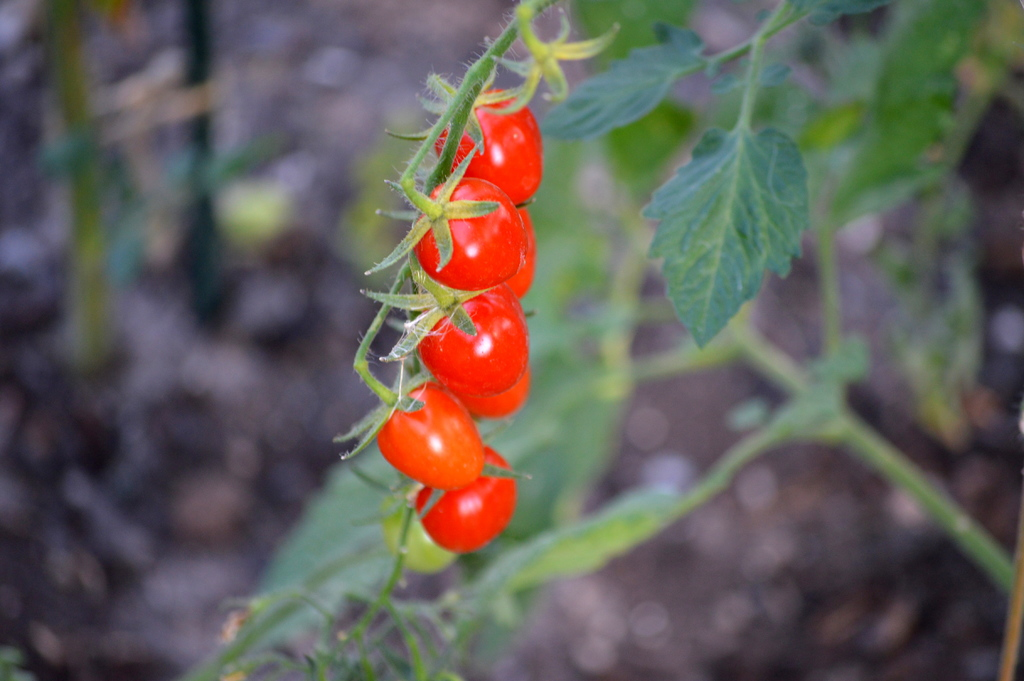Tomato: (379, 90, 544, 553)
